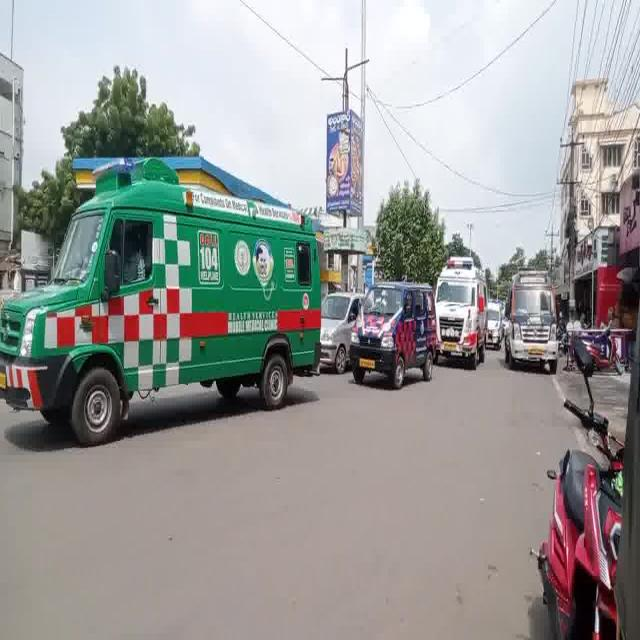ambulance: (0, 134, 329, 499), (344, 278, 440, 399), (506, 258, 562, 374), (447, 252, 488, 368)
